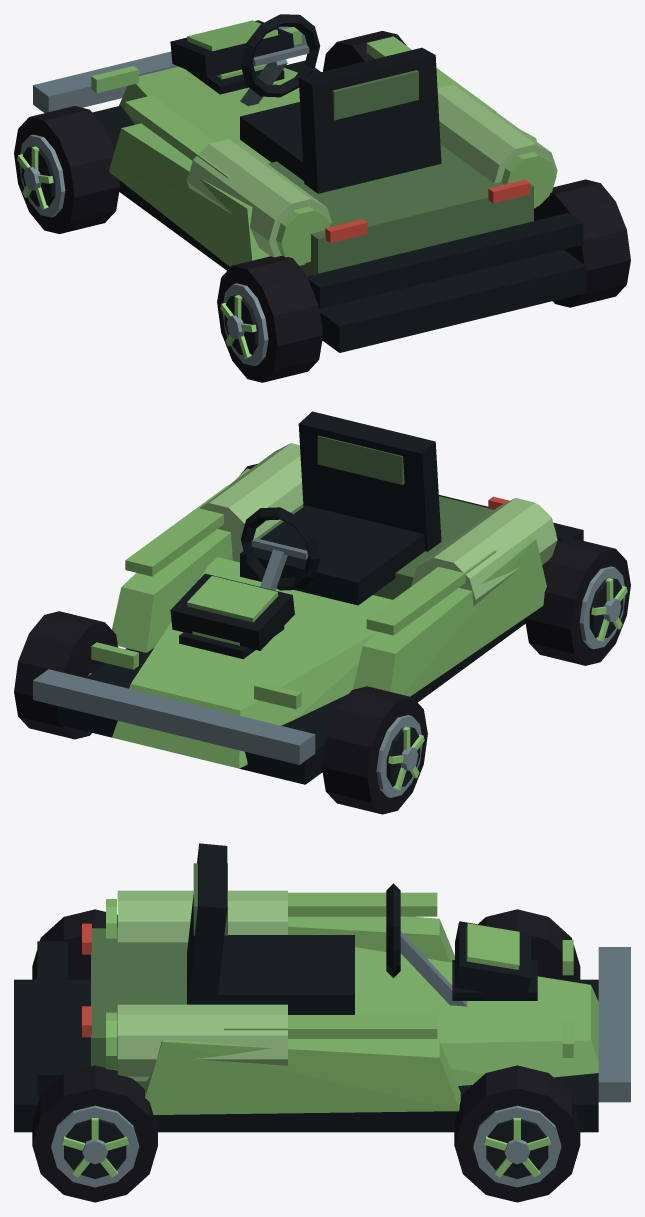
Rendered from kart.glb.
3 renders of one model, top to bottom at view 1: azimuth 30°, elevation 25°; view 2: azimuth 150°, elevation 25°; view 3: azimuth 270°, elevation 25°, orthographic. The views are drawn at different scales.
Parts seen in each view (by area): view 1: chassis, wheel-rear-left, wheel-front-left, wheel-rear-right, wheel-front-right; view 2: chassis, wheel-front-left, wheel-rear-left, wheel-front-right; view 3: chassis, wheel-front-right, wheel-rear-right, wheel-front-left, wheel-rear-left.
Part boxes in pixels (x1=…): chassis: x1=33, y1=14, x2=586, y2=352; wheel-rear-left: x1=217, y1=255, x2=323, y2=382; wheel-front-left: x1=14, y1=106, x2=119, y2=233; wheel-rear-right: x1=534, y1=179, x2=630, y2=307; wheel-front-right: x1=323, y1=31, x2=406, y2=71; chassis: x1=33, y1=411, x2=583, y2=784; wheel-front-left: x1=321, y1=686, x2=427, y2=814; wheel-rear-left: x1=525, y1=537, x2=630, y2=665; wheel-front-right: x1=14, y1=611, x2=118, y2=739; chassis: x1=14, y1=843, x2=630, y2=1132; wheel-front-right: x1=454, y1=1065, x2=580, y2=1202; wheel-rear-right: x1=32, y1=1065, x2=157, y2=1202; wheel-front-left: x1=478, y1=909, x2=580, y2=979; wheel-rear-left: x1=32, y1=909, x2=117, y2=979.
Bounding box in the file's own units: 2.26 × 1.3 × 3.04.
